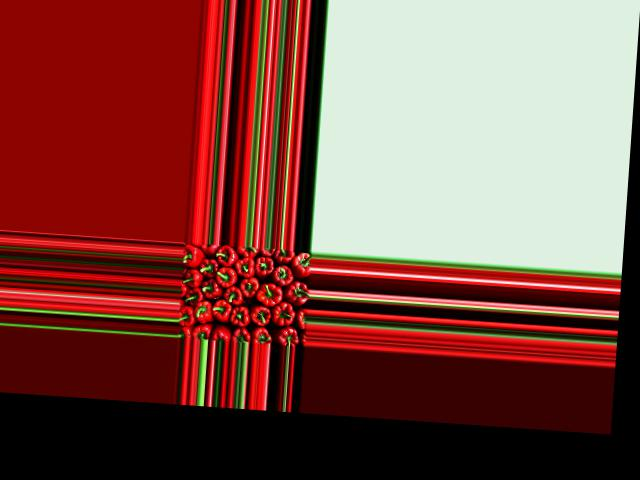bell_pepper: (183, 244, 205, 265)
